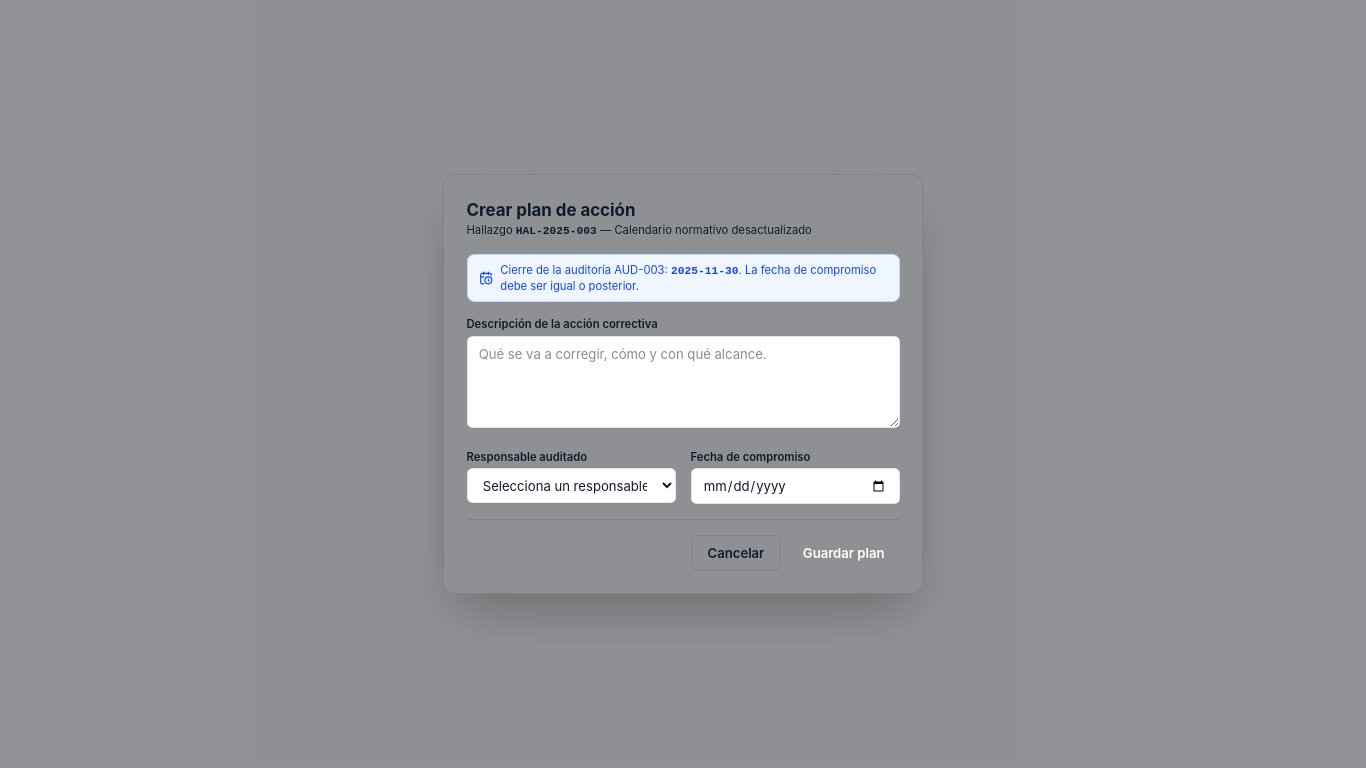
Test: FormularioPlanAccion › muestra el mensaje de validación que devuelve el servidor
Type "Actualizar el calendario normativo." into the text box labelled "Descripción de la acción correctiva". click: (683, 382)
box: [466,336,900,428]
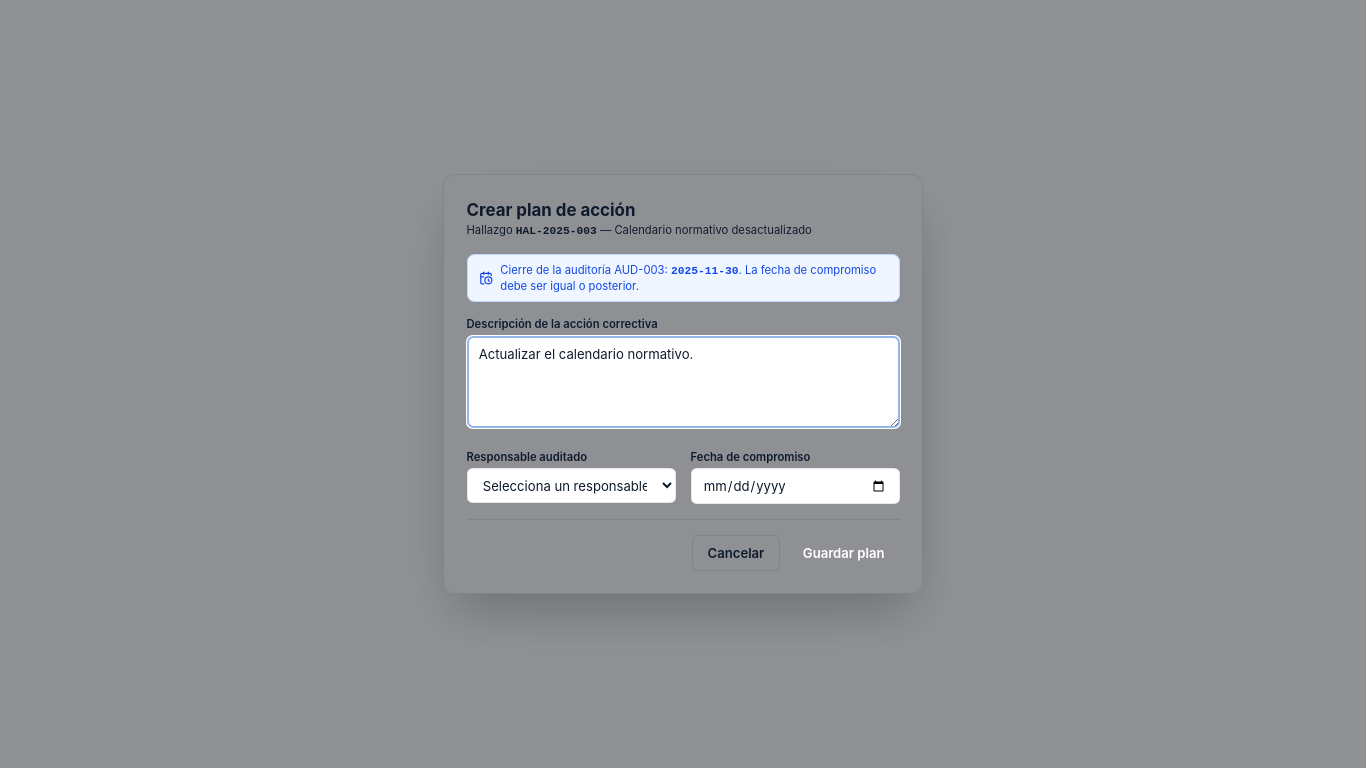
Select "Laura Fernández" in the dropdown labelled "Responsable auditado". click: (571, 486)
box: [466,468,676,503]
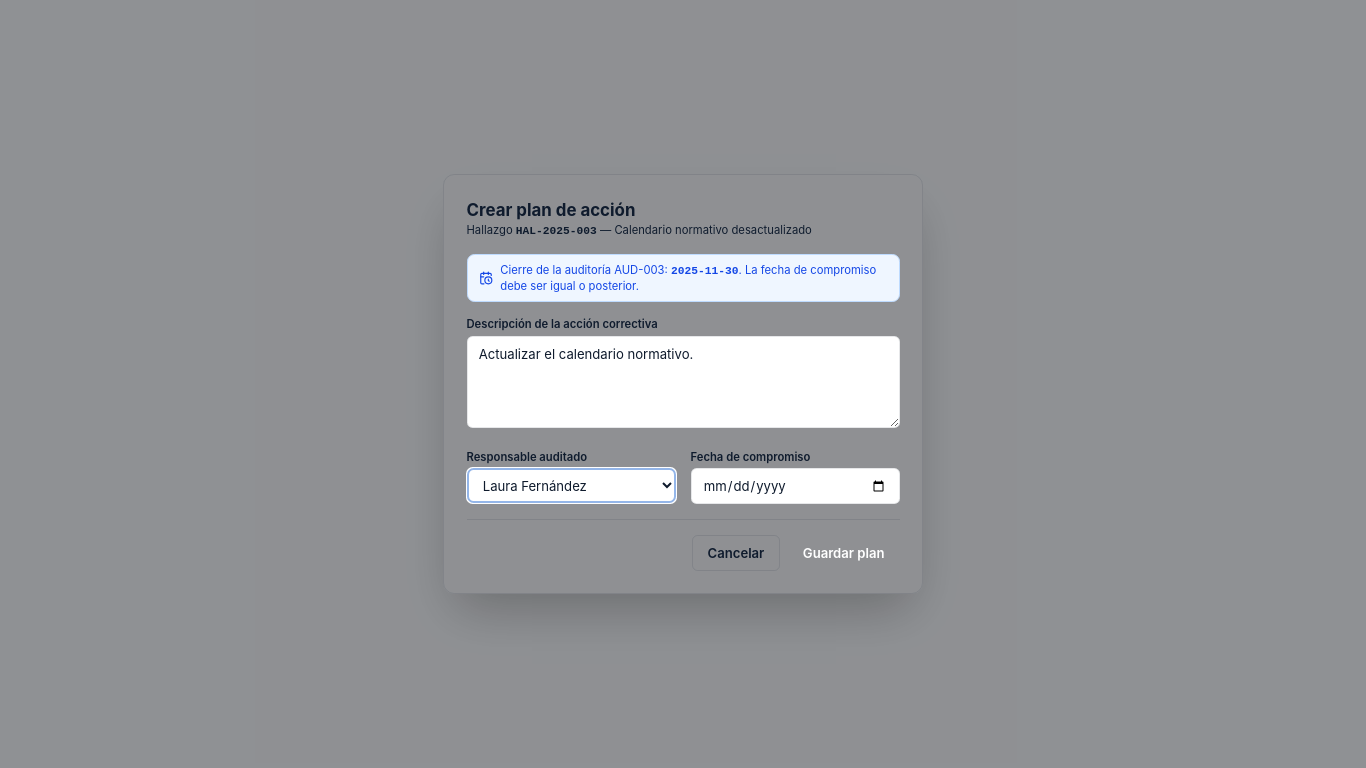
Type "2025-12-15" into the date field labelled "Fecha de compromiso". click: (795, 486)
box: [690,468,900,504]
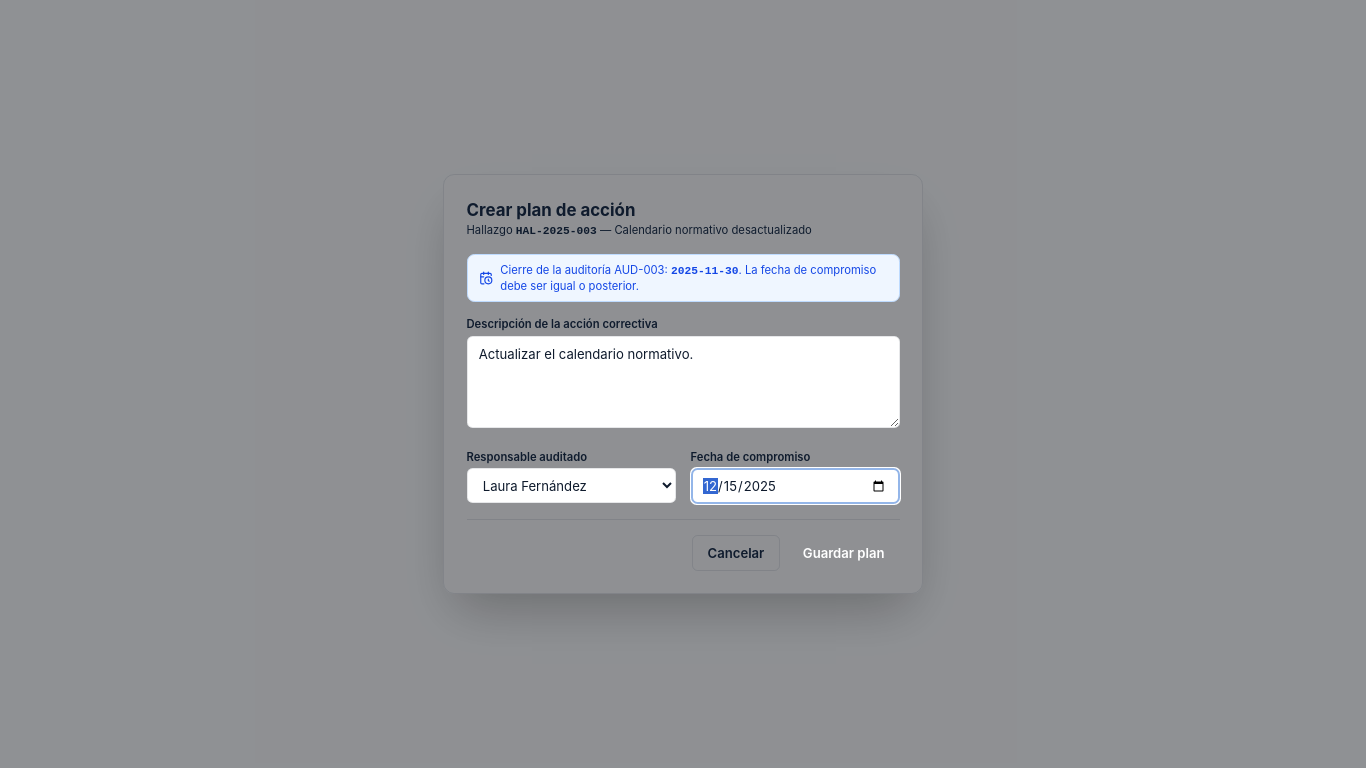
Click the button "Guardar plan". click: (844, 553)
box: [788,535,900,571]
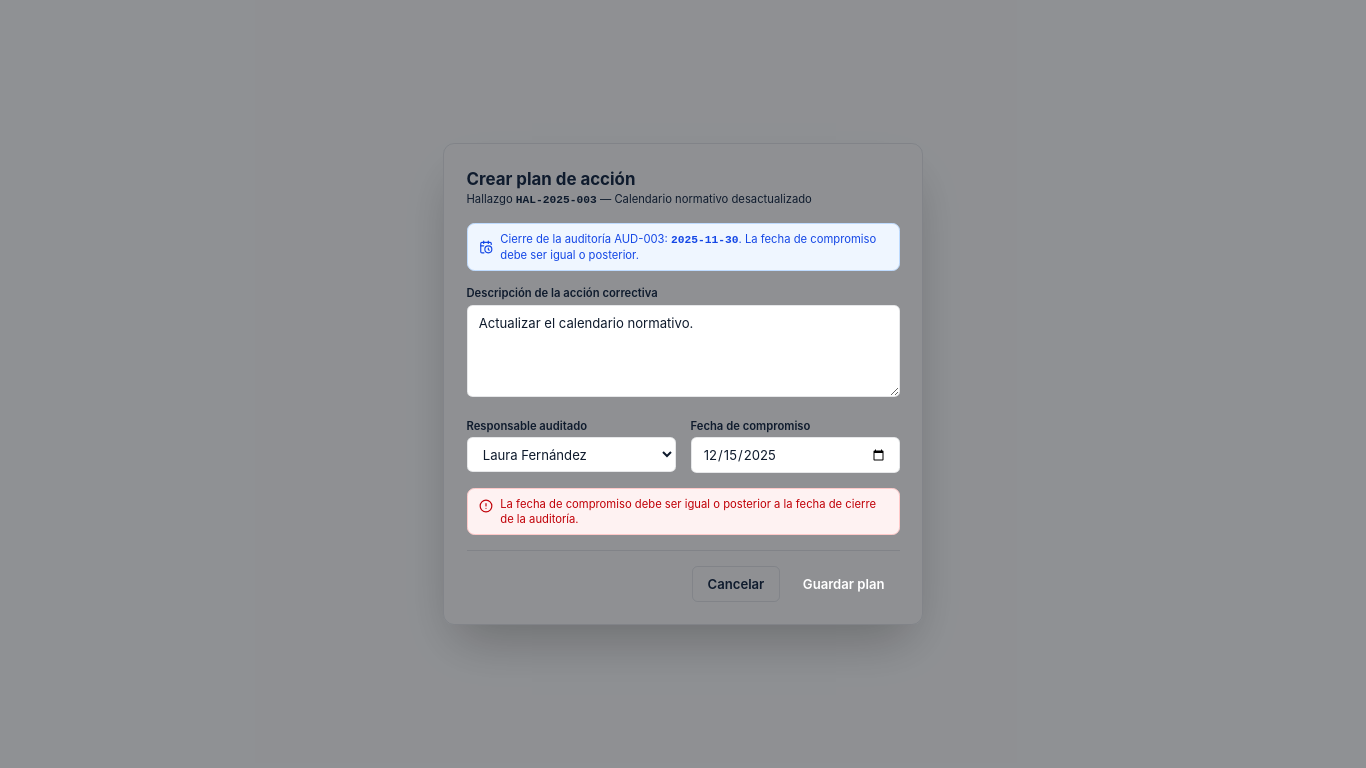
Expected: the message shows "La fecha de compromiso debe ser igual o posterior a la fecha de cierre de la auditoría.", [500,497,876,526]
